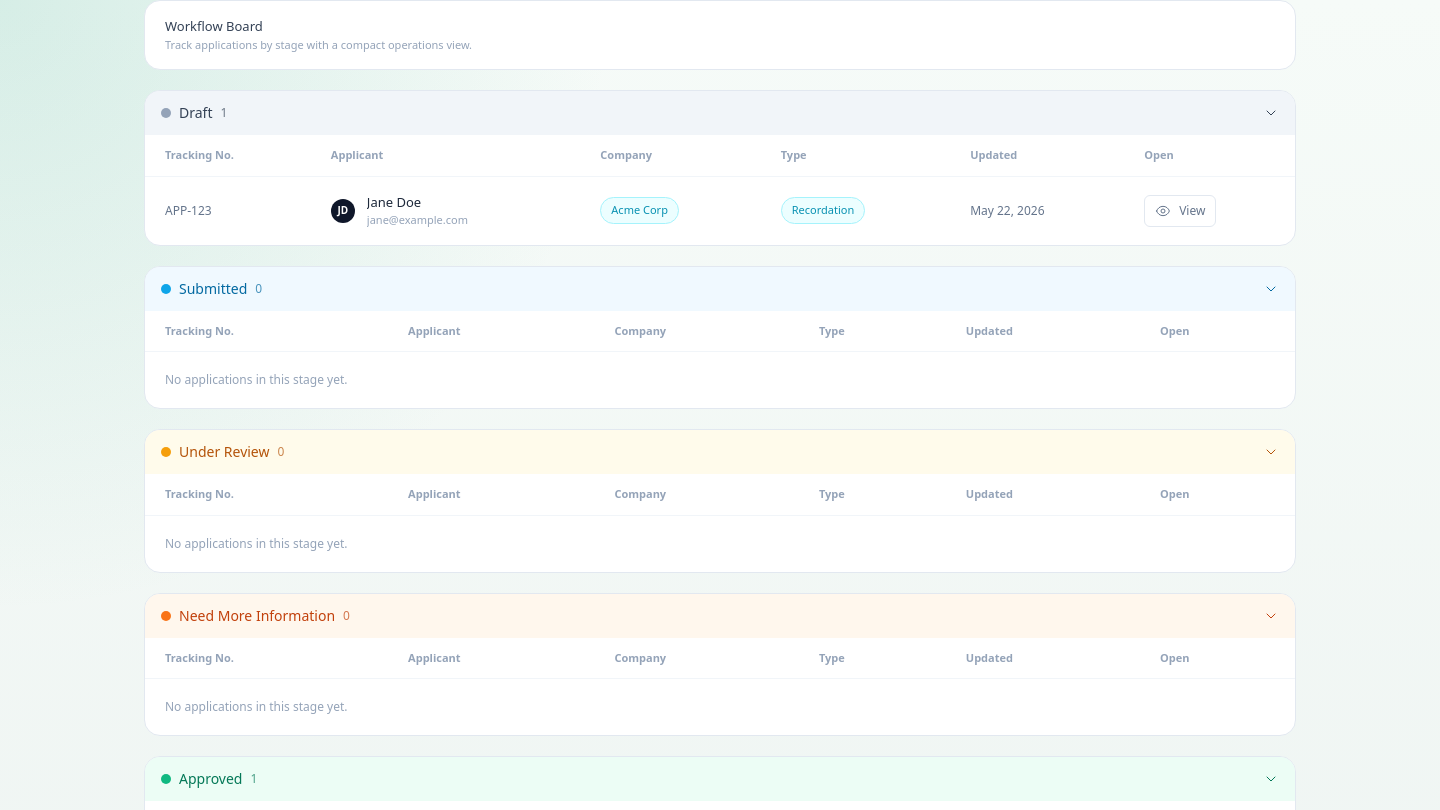
ApplicationListPage › loads applications into workflow groups and toggles a section closed
expect the link "Jane Doe" is shown: met, box [367,192,421,210]
expect the text "APP-123" is shown: met, box [145,176,311,244]
Click the button "Draft 1" at [196, 112], box [145,91,1295,135]
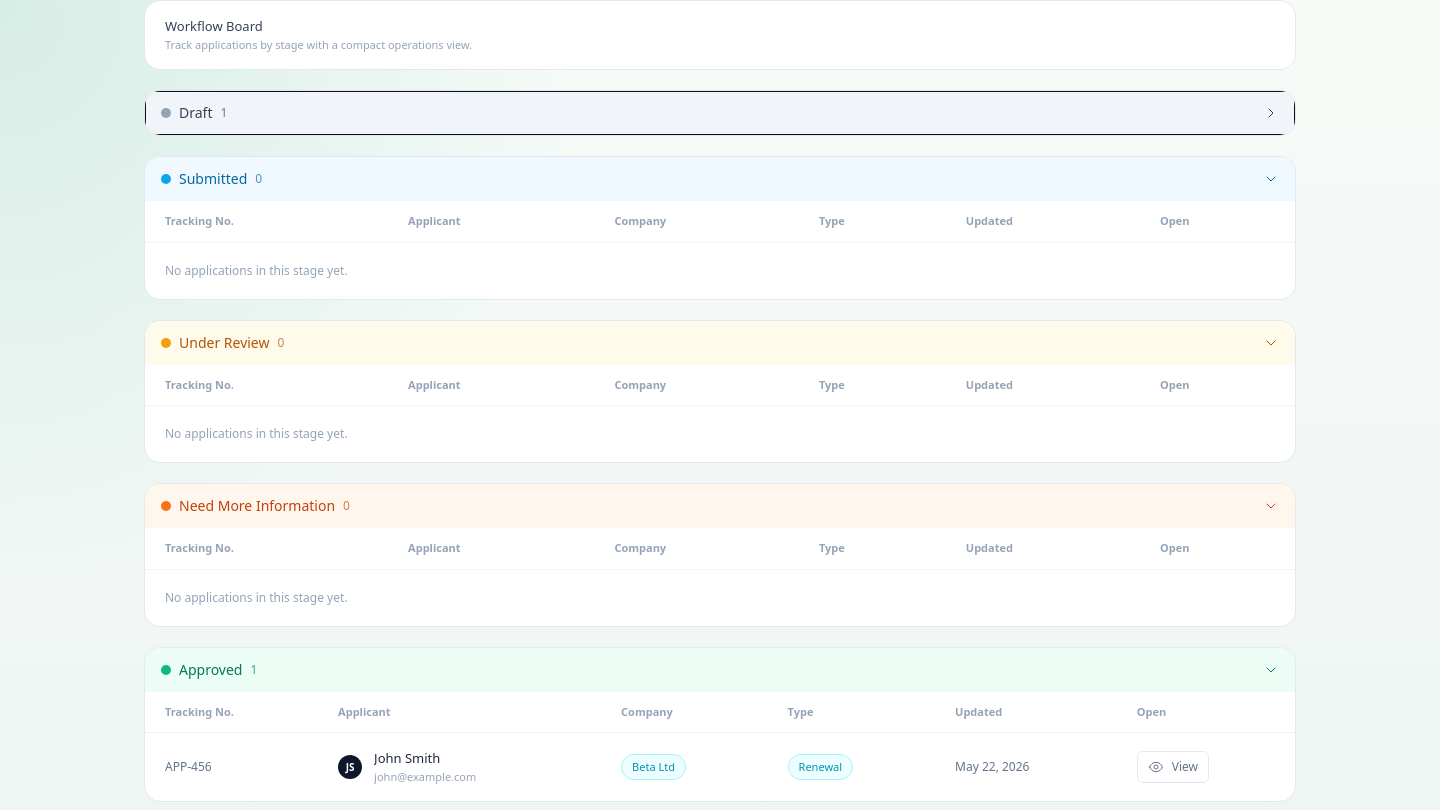
expect the link "John Smith" is shown: met, box [374,749,440,767]
expect the link "Jane Doe" is gone: met
